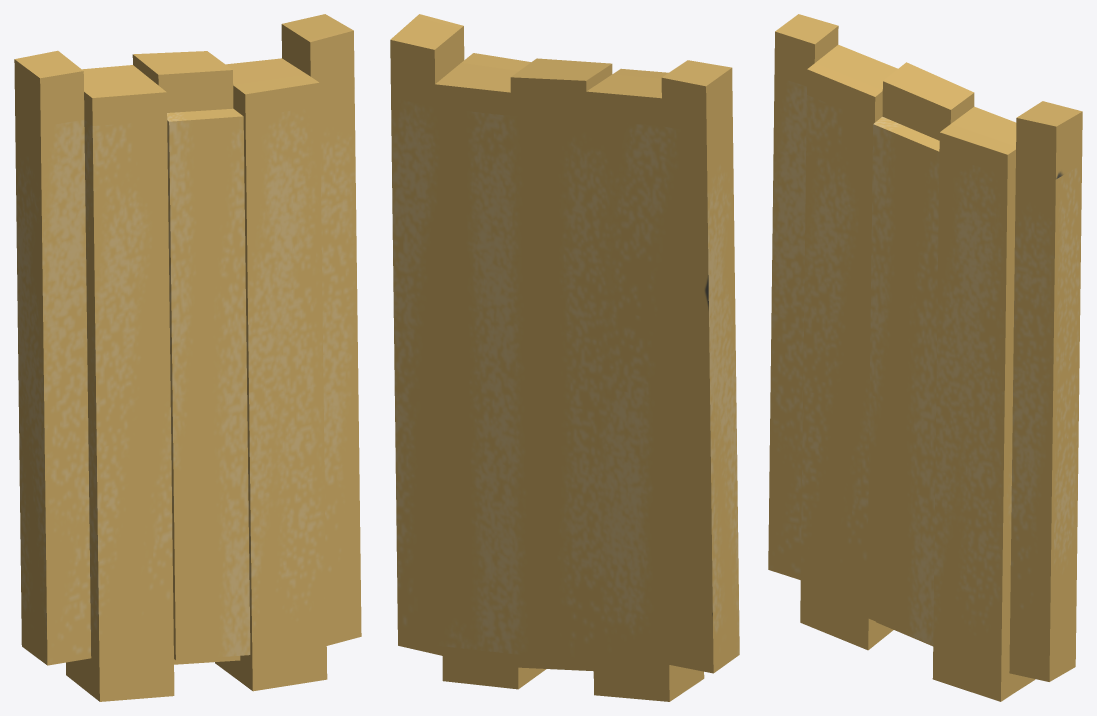
Rendered from DOOR.FBX.
3 renders of one model, left to right at view 1: azimuth 30°, elevation 25°; view 2: azimuth 150°, elevation 25°; view 3: azimuth 330°, elevation 25°, orthographic. The views are drawn at different scales.
Parts seen in each view (by area): view 1: Box026; view 2: Box026; view 3: Box026.
Part boxes in pixels (x1,y1,x2,y2): Box026: (14,14,361,701); Box026: (390,14,739,701); Box026: (768,14,1082,701).
Bounding box in the file's own units: 17.38 × 35.05 × 4.46.
Materials: 1 (1 with a texture image).
